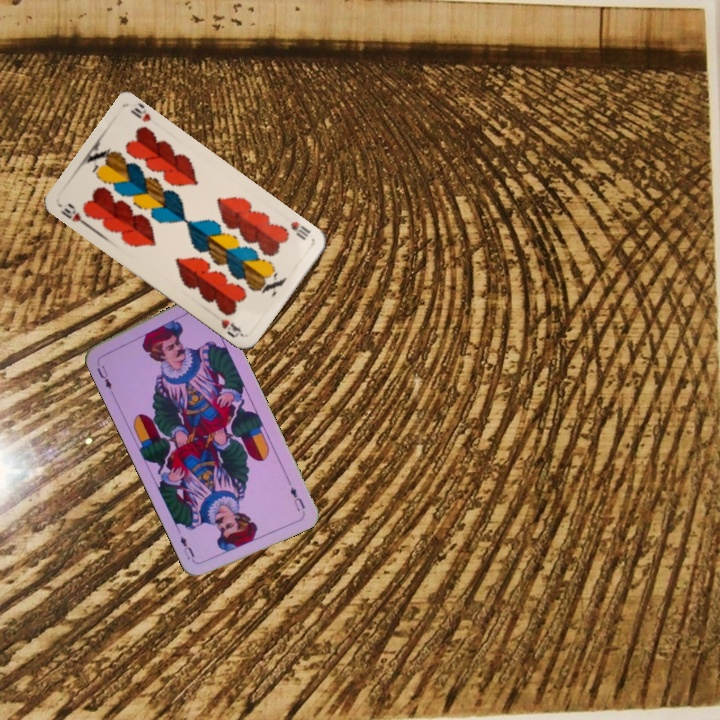EU: (92, 357, 116, 396), (286, 483, 308, 514)
H10: (56, 199, 91, 229), (286, 217, 313, 243)
